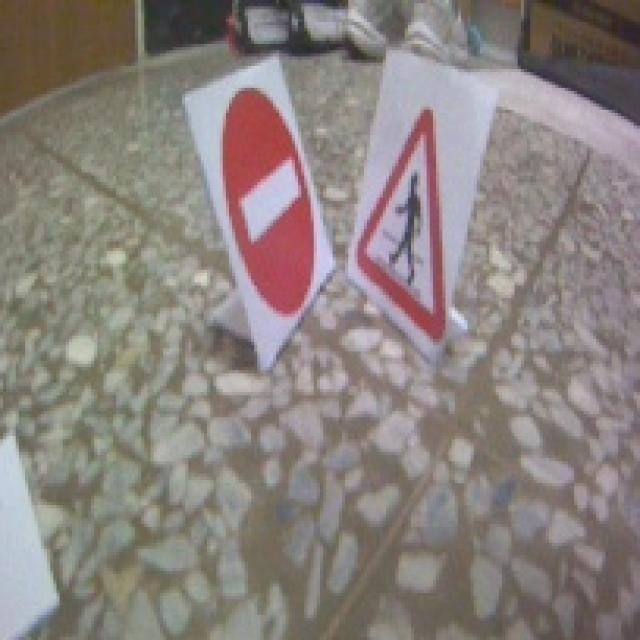DoNotEnterSign: (220, 79, 323, 316)
